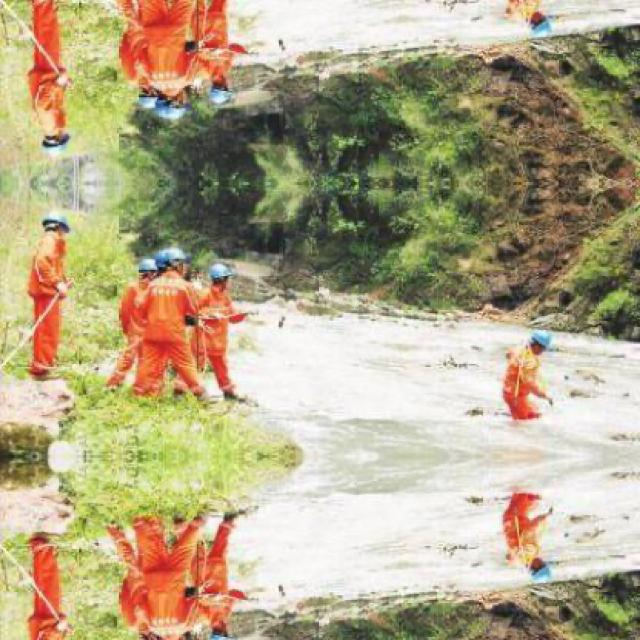con casco: (492, 307, 562, 362), (8, 201, 68, 257), (202, 230, 240, 299), (141, 224, 193, 272)
